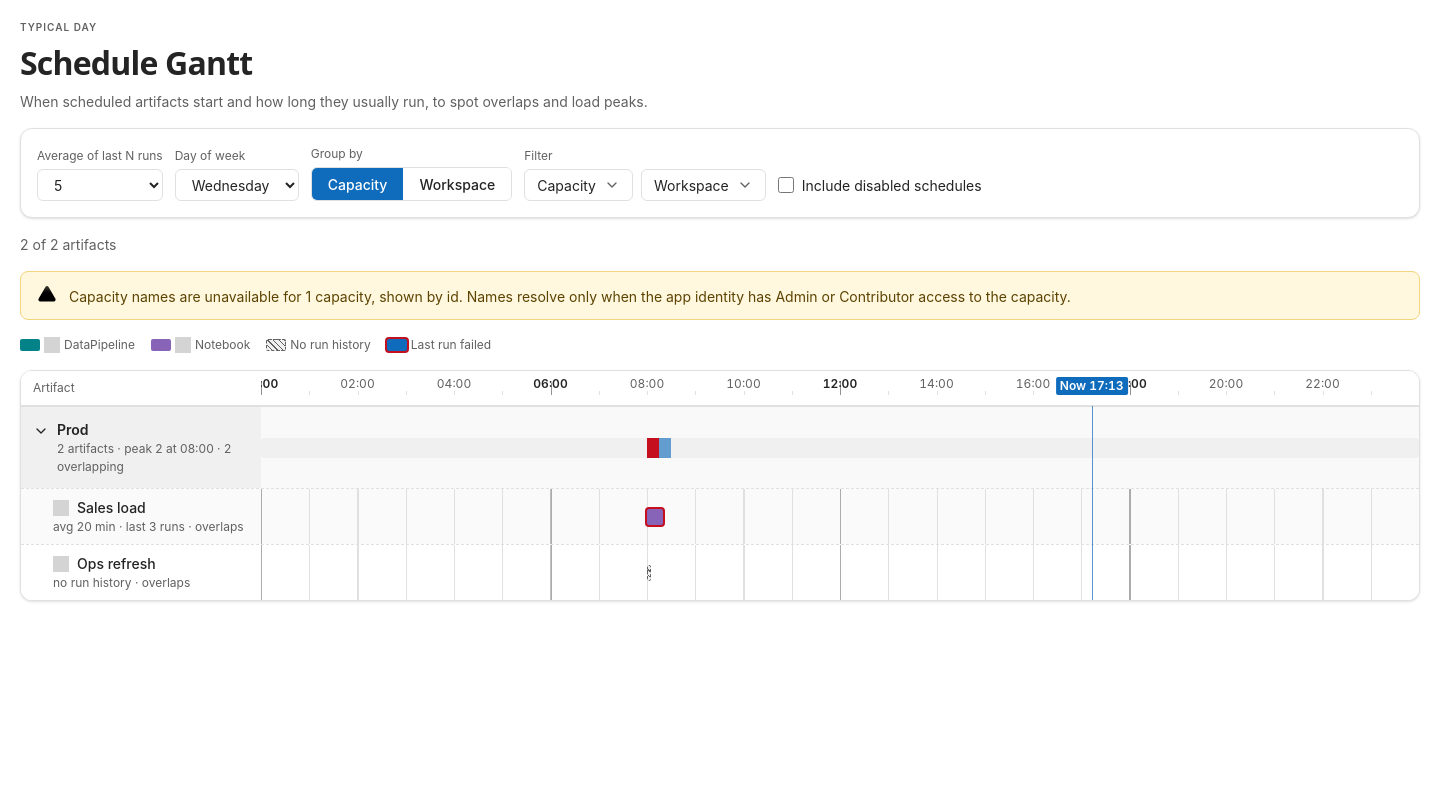
Test: Gantt bar tooltip › opens on touch tap and closes on an outside tap
The width and height of the screenshot is (1440, 810).
Click the picture named "Sales load: 08:00".
click(655, 516)  # box [647,508,663,524]
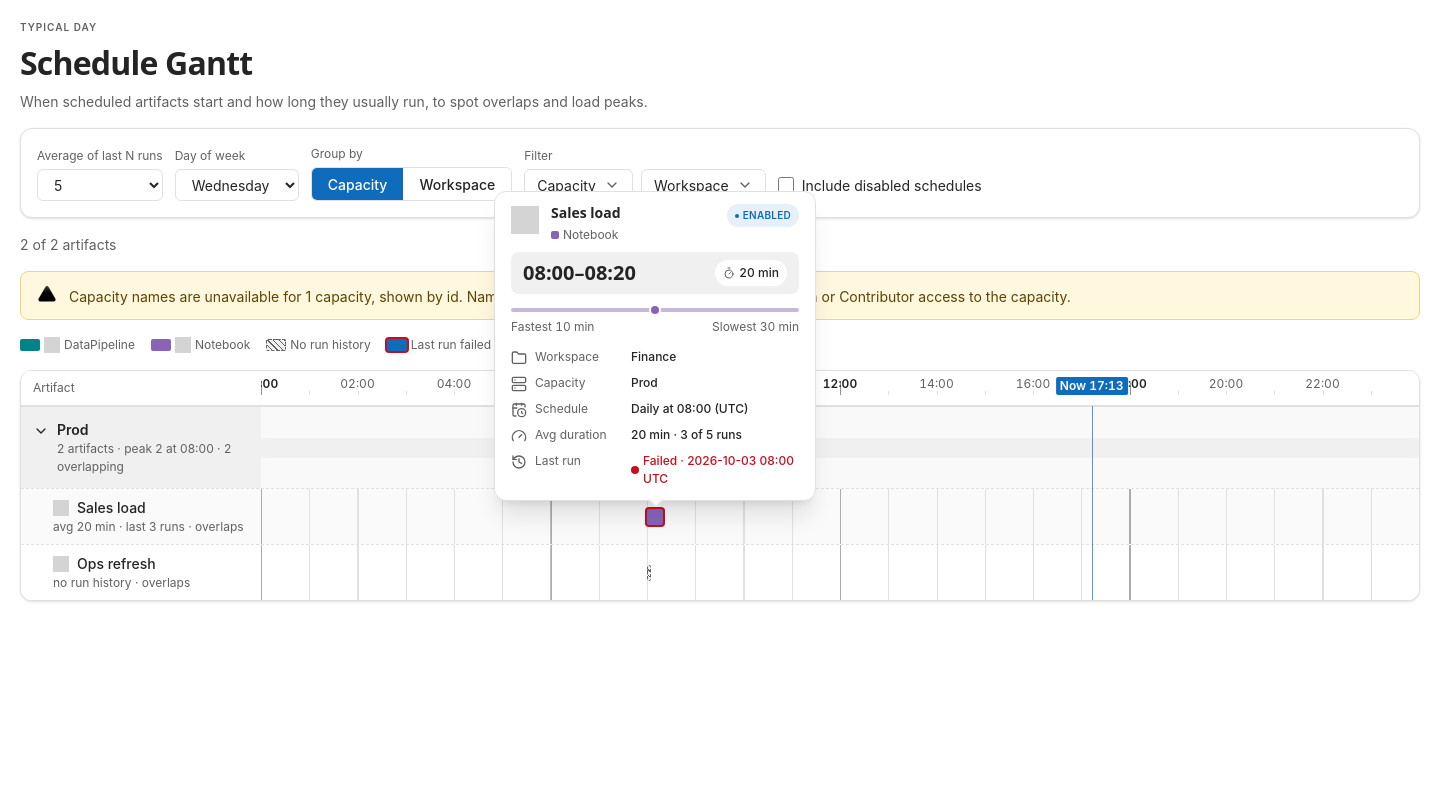
Check: the tooltip is shown, box [494,191,816,500]
Press the mouse on the element that starts with "Typical day" at (720,405), box [0,0,1439,809]
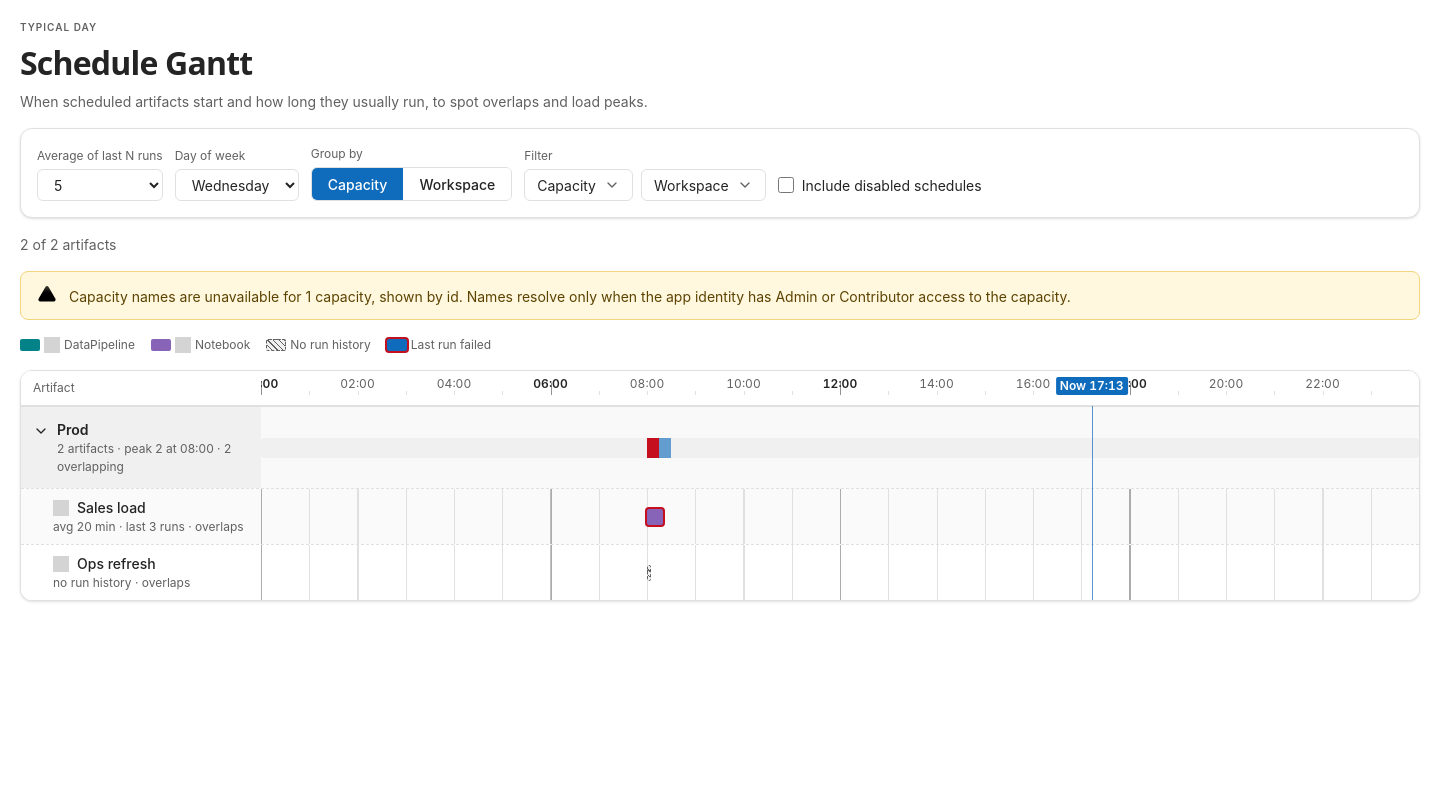
Check: the tooltip is gone
